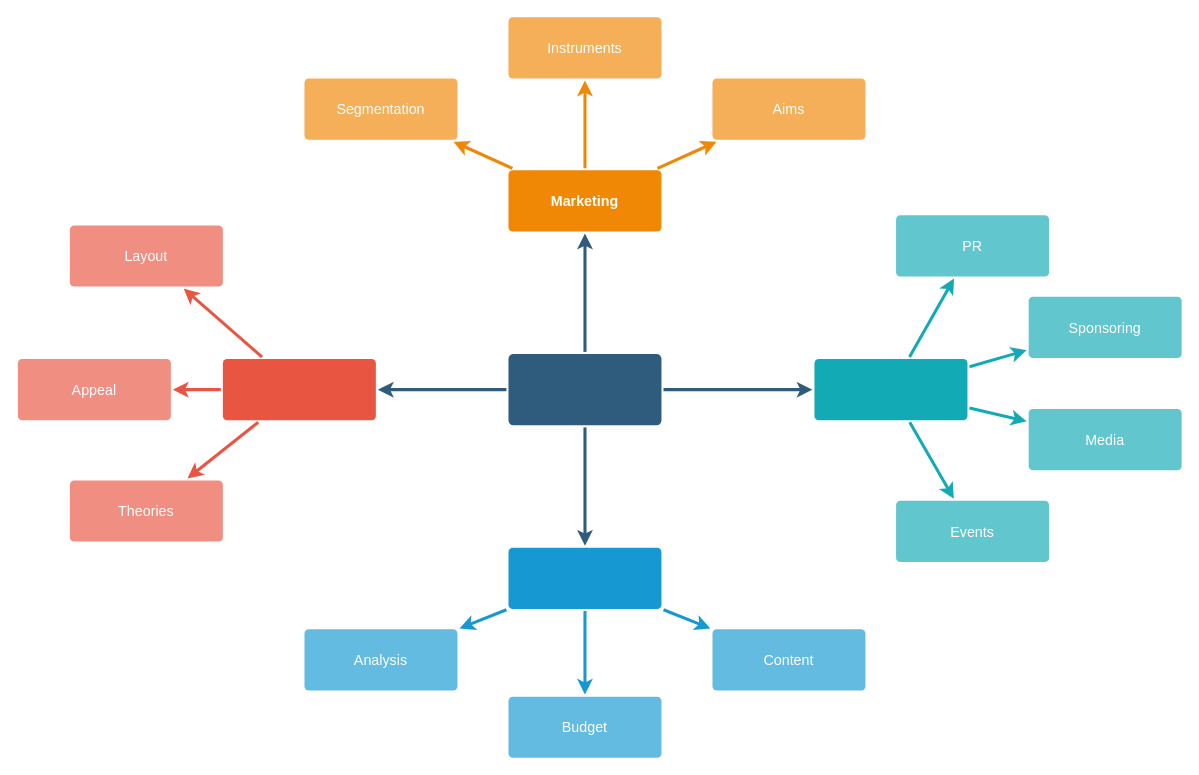
This 1199x775 diagram has some shape labels left out. Each missing label, with the centre of its shape:
"Communication" goes at point (890, 389).
"Embassy" goes at point (298, 389).
"Organizaciones" goes at point (584, 389).
"Organization" goes at point (584, 577).
